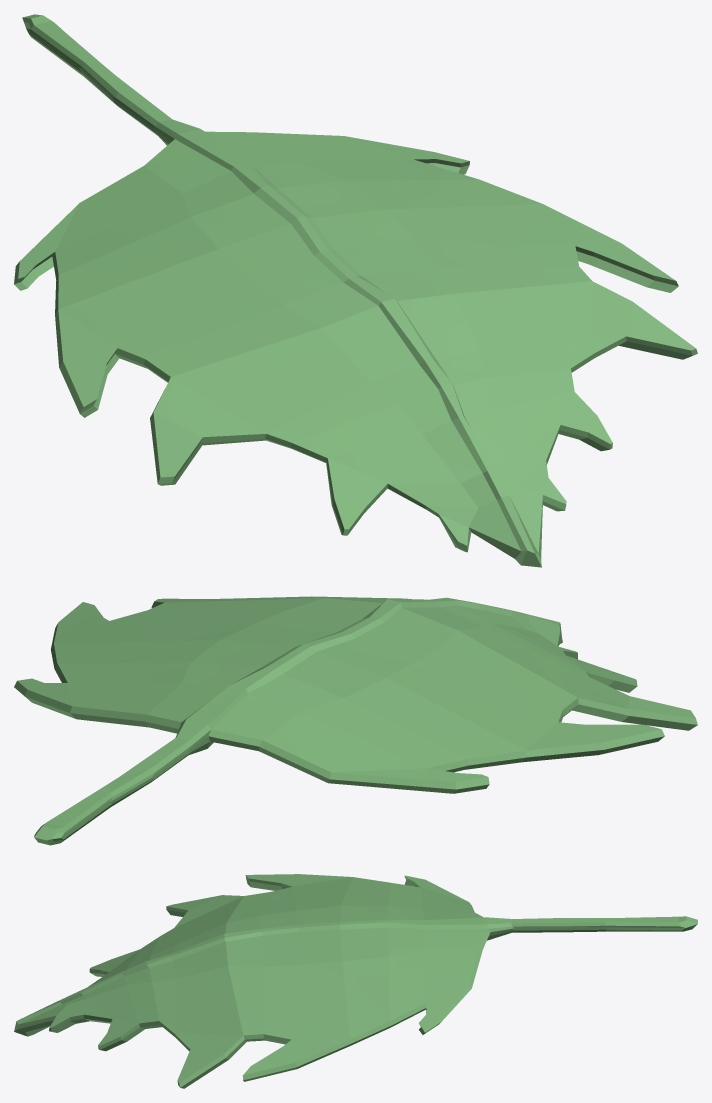
The model's file is leaf_1.glb.
The picture shows the model from 3 angles, top to bottom: view 1: azimuth 30°, elevation 25°; view 2: azimuth 150°, elevation 25°; view 3: azimuth 270°, elevation 25°; orthographic projection. The views are drawn at different scales.
Visible parts, largest first — view 1: leaf_1; view 2: leaf_1; view 3: leaf_1.
Boxes of the visible parts, box(x1,y1,x2,y2) form: leaf_1: box(14, 14, 697, 567); leaf_1: box(14, 596, 697, 845); leaf_1: box(14, 874, 697, 1088).
Bounding box in the file's own units: 0.3683 × 0.1073 × 0.5552.
1 material, 1 textured.
